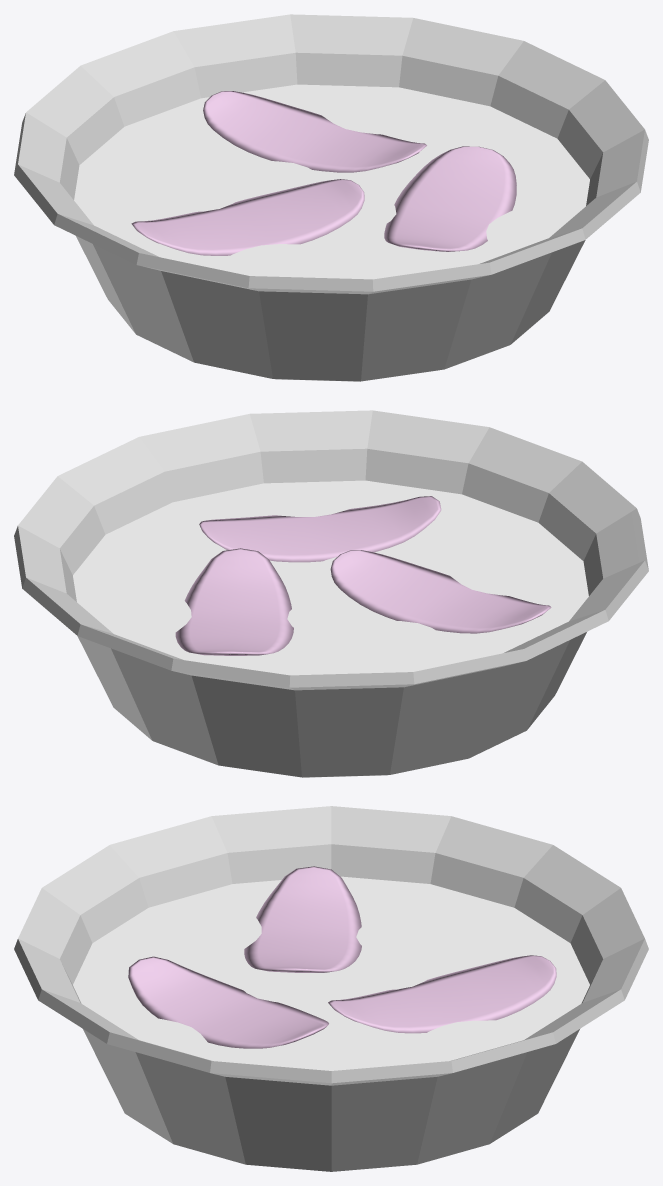
Rendered from PinkPetalSoup.fbx.
3 views of the same model, one above another, from view 1: azimuth 30°, elevation 25°; view 2: azimuth 150°, elevation 25°; view 3: azimuth 270°, elevation 25° (orthographic).
Parts seen in each view (by area): view 1: Bowl, Water.003, Petel.043, Petel.044, Petel.042; view 2: Bowl, Water.003, Petel.044, Petel.042, Petel.043; view 3: Bowl, Water.003, Petel.042, Petel.043, Petel.044.
Boxes of the visible parts, left/top/right/bottom form: Bowl: left=14, top=14, right=648, bottom=381; Water.003: left=74, top=84, right=589, bottom=279; Petel.043: left=384, top=146, right=516, bottom=251; Petel.044: left=131, top=179, right=364, bottom=255; Petel.042: left=203, top=91, right=426, bottom=172; Bowl: left=14, top=410, right=648, bottom=777; Water.003: left=73, top=480, right=588, bottom=675; Petel.044: left=330, top=550, right=551, bottom=633; Petel.042: left=175, top=548, right=293, bottom=655; Petel.043: left=199, top=496, right=441, bottom=562; Bowl: left=14, top=806, right=648, bottom=1171; Water.003: left=73, top=876, right=589, bottom=1070; Petel.042: left=328, top=955, right=556, bottom=1033; Petel.043: left=128, top=956, right=328, bottom=1048; Petel.044: left=244, top=866, right=361, bottom=972.
Size of the model in its own units: 59.99 by 15.96 by 59.99.
